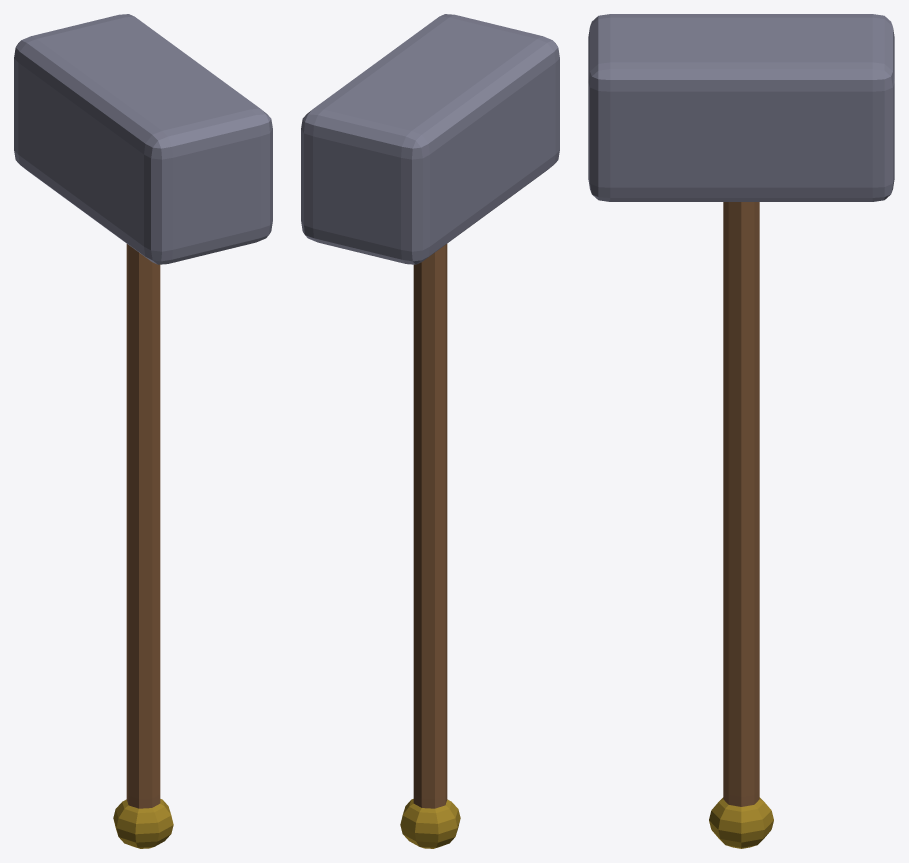
File: Hammer.glb
3 views of the same model, side by side, from view 1: azimuth 30°, elevation 25°; view 2: azimuth 150°, elevation 25°; view 3: azimuth 270°, elevation 25° (orthographic). The views are drawn at different scales.
Parts seen in each view (by area): view 1: Hammer; view 2: Hammer; view 3: Hammer.
Part boxes in pixels (x1,y1,x2,y2): Hammer: [14, 14, 272, 848]; Hammer: [301, 14, 559, 848]; Hammer: [588, 14, 894, 848].
Bounding box in the file's own units: 0.0823 × 0.4872 × 0.1679.
